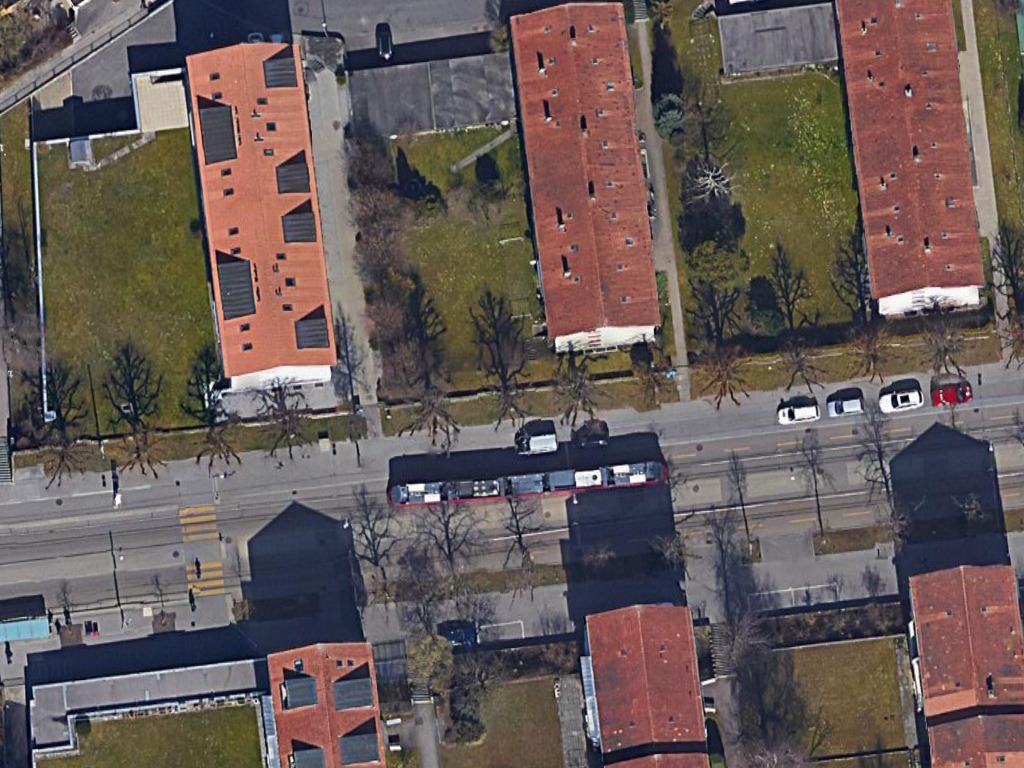car: (873, 382, 928, 418), (774, 399, 825, 425), (925, 383, 971, 410), (822, 392, 866, 418)
